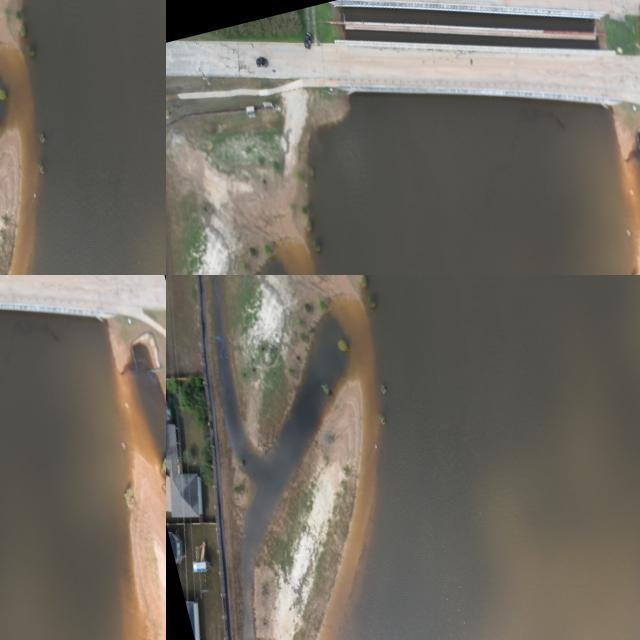fire: (337, 275, 640, 640), (213, 275, 347, 640), (252, 92, 353, 243), (547, 10, 640, 114), (253, 100, 325, 220), (389, 54, 440, 179), (467, 0, 521, 96), (166, 133, 255, 183), (353, 86, 385, 139), (219, 138, 251, 188), (166, 160, 181, 180)
